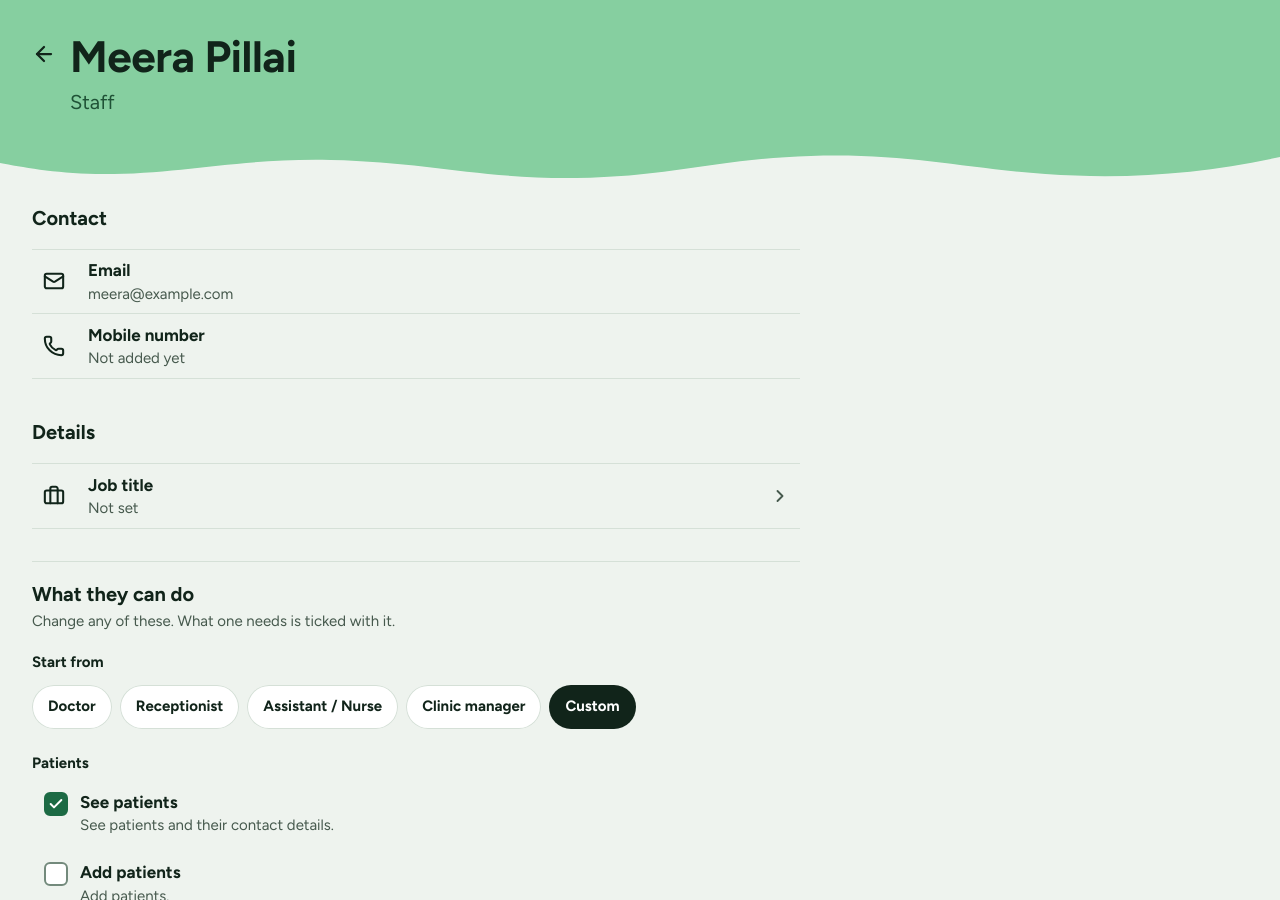
Test: Member (plan §8.6, D94) › opens a member of staff's job title
Click the button "Job title" at [121, 485], box [88,472,758,498]
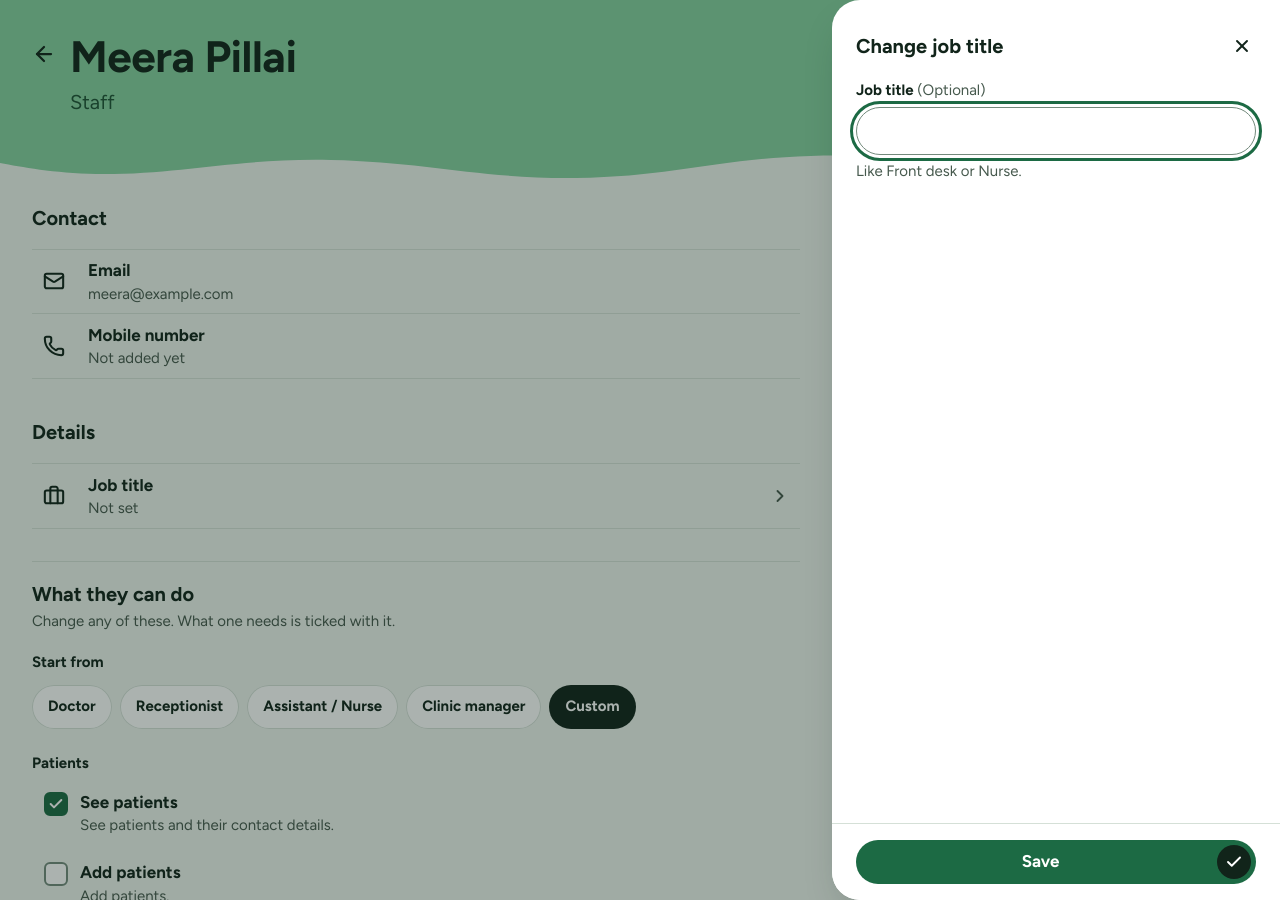
Expected: the text "Not set" is shown, [88,499,138,517]
Result: the dialog "Change job title" is shown at [832,0,1279,899]
